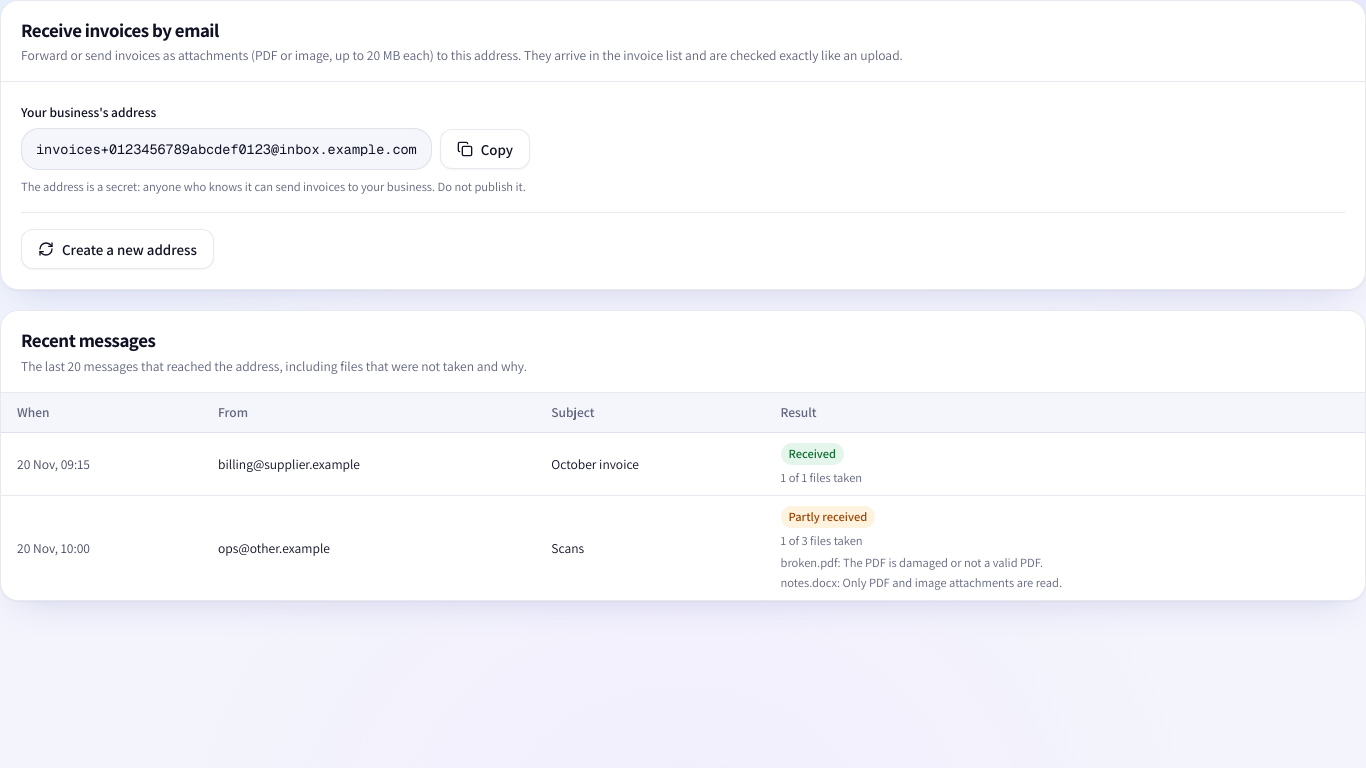
email inbox settings › asks before replacing the address, and replaces it only on confirmation
Later steps or results of the test are not shown.
Click the button "Create a new address": (117, 249) [21, 229, 214, 269]
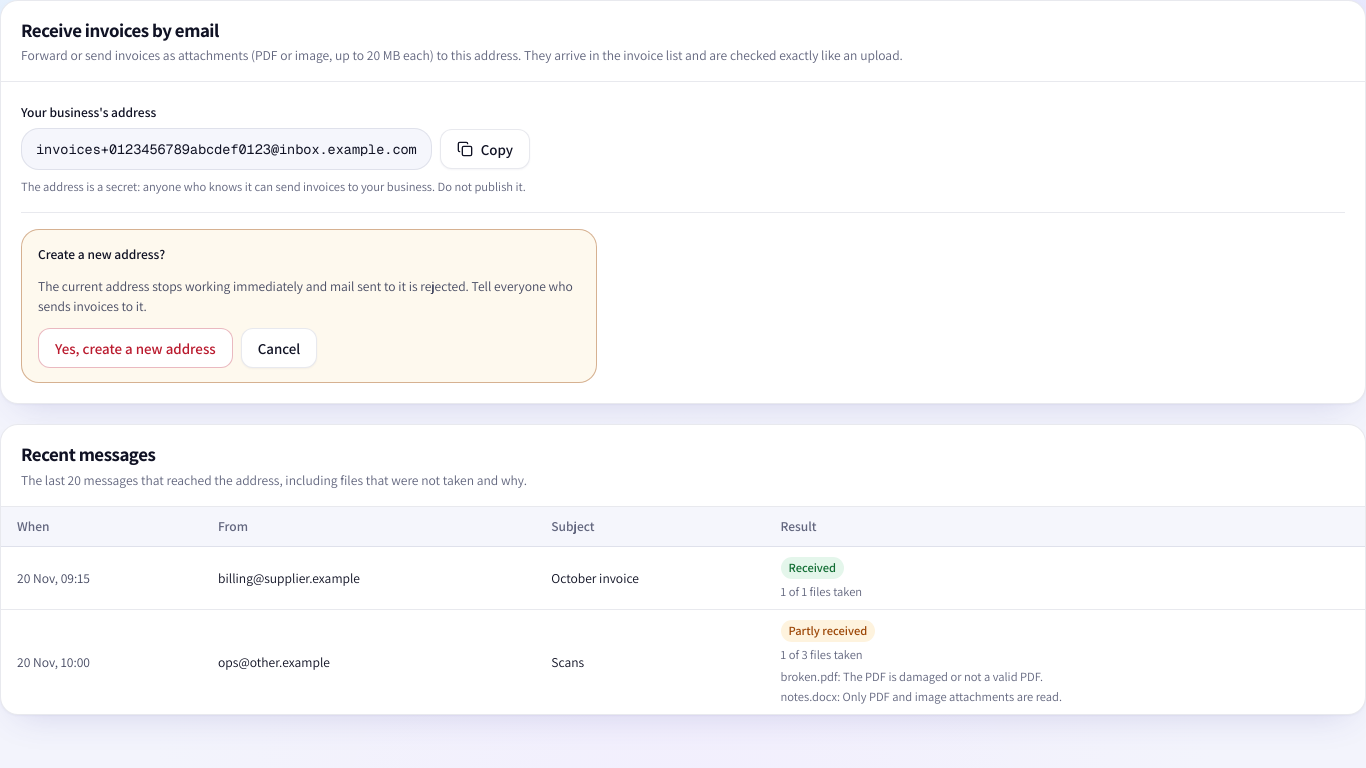
Check: the text "stops working immediately" is shown, box [38, 277, 573, 315]
Click the button "Cancel": (279, 348) [241, 328, 317, 368]
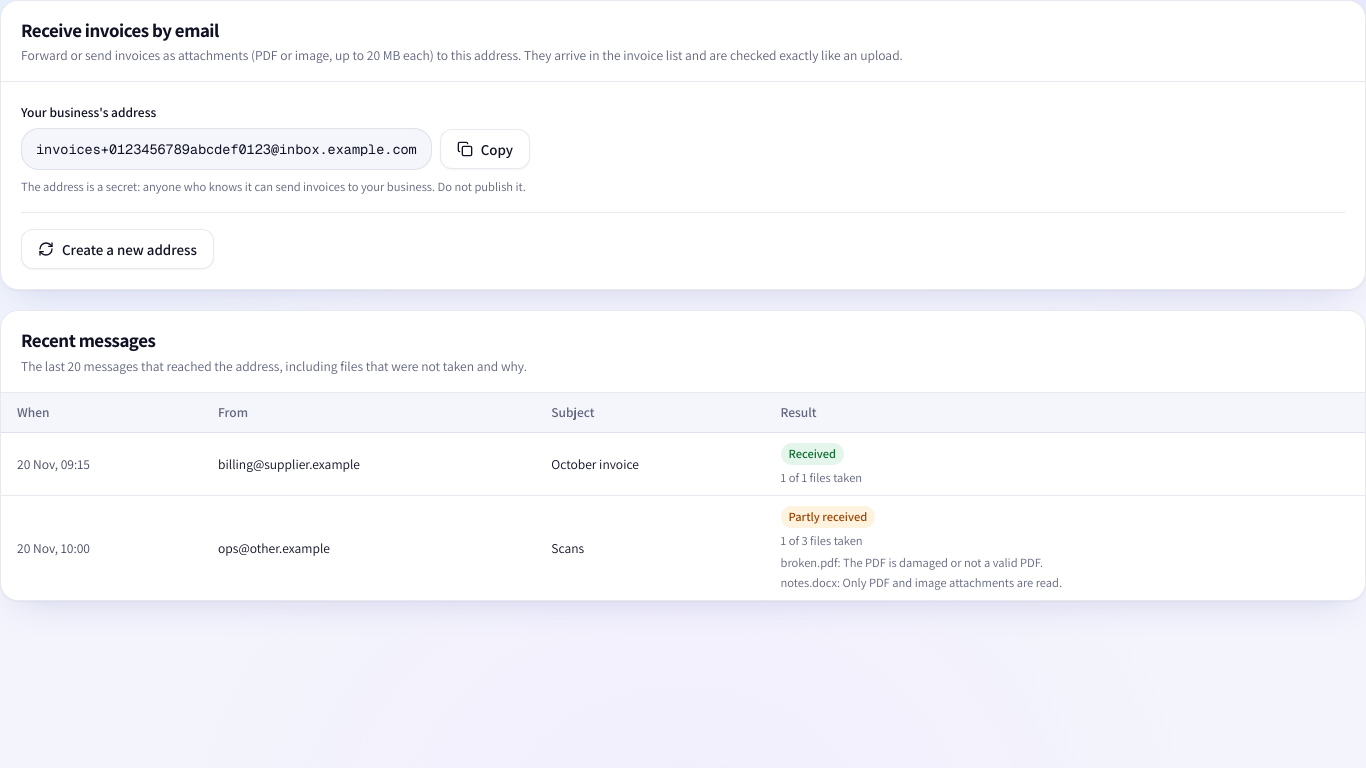
Check: the dialog is gone
